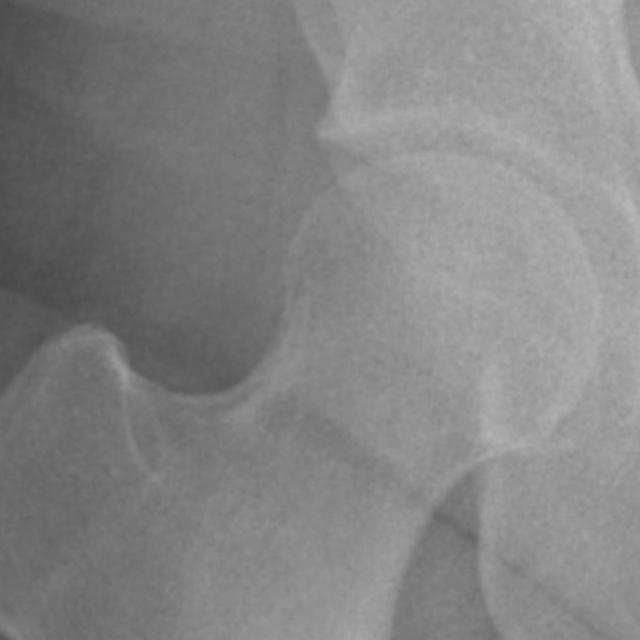Fitted_femural_head: (320, 153, 432, 320)
